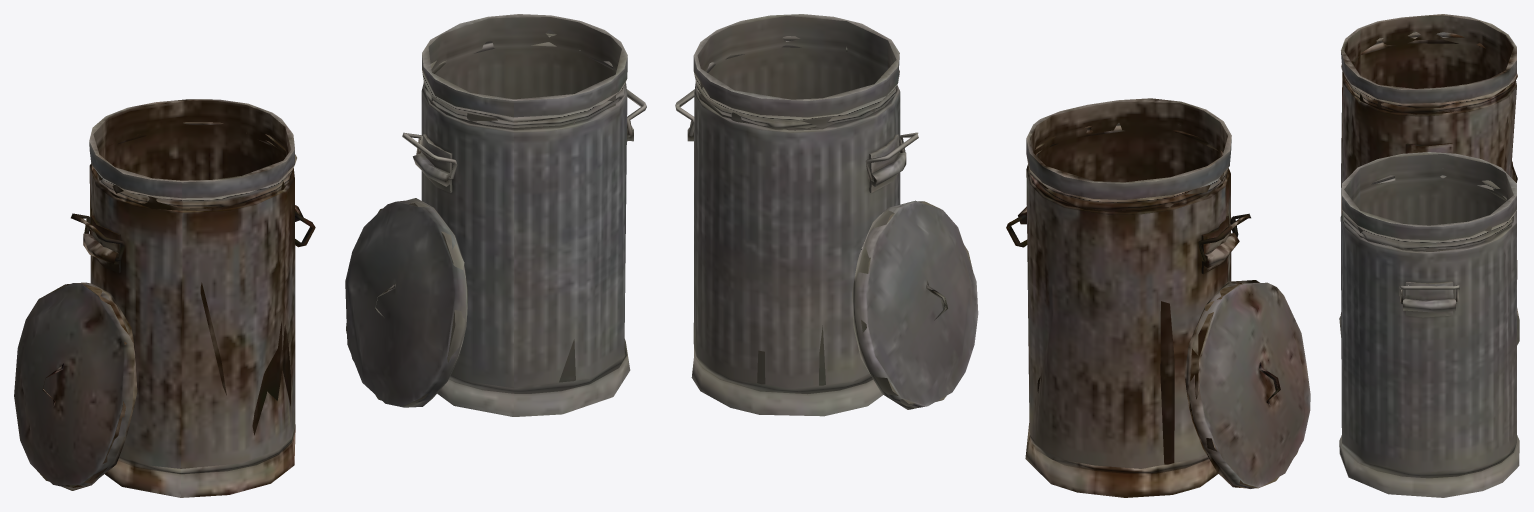
File: trashCan_lo.glb
3 views of the same model, side by side, from view 1: azimuth 30°, elevation 25°; view 2: azimuth 150°, elevation 25°; view 3: azimuth 270°, elevation 25° (orthographic). The views are drawn at different scales.
Visible parts, largest first — view 1: metal_trash_can, metal_trash_can_rust, metal_trash_can_lid, metal_trash_can_rust_lid; view 2: metal_trash_can, metal_trash_can_rust, metal_trash_can_lid, metal_trash_can_rust_lid; view 3: metal_trash_can, metal_trash_can_rust, metal_trash_can_handle_right.
Part boxes in pixels (x1,y1,x2,y2): metal_trash_can: (413, 14, 633, 416); metal_trash_can_rust: (83, 99, 303, 497); metal_trash_can_lid: (345, 198, 468, 407); metal_trash_can_rust_lid: (14, 282, 137, 490); metal_trash_can: (687, 14, 906, 416); metal_trash_can_rust: (1018, 98, 1239, 497); metal_trash_can_lid: (852, 200, 978, 409); metal_trash_can_rust_lid: (1184, 280, 1310, 488); metal_trash_can: (1339, 152, 1519, 497); metal_trash_can_rust: (1340, 14, 1519, 318); metal_trash_can_handle_right: (1399, 285, 1459, 304).
Bounding box in the file's own units: 1.78 × 0.9062 × 0.5481.
Materials: 2 (2 with a texture image).
